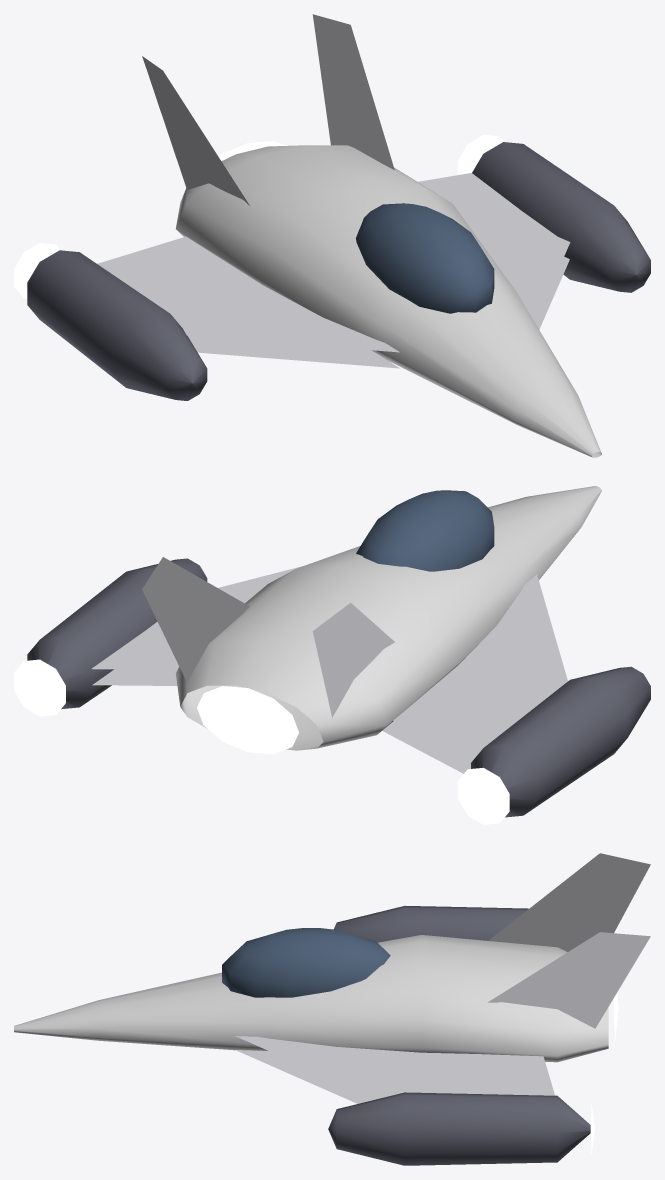
File: skimmer.glb
The picture shows the model from 3 angles, top to bottom: view 1: azimuth 30°, elevation 25°; view 2: azimuth 150°, elevation 25°; view 3: azimuth 270°, elevation 25°; orthographic projection. The views are drawn at different scales.
Visible parts, largest first — view 1: skimmer; view 2: skimmer; view 3: skimmer.
Part boxes in pixels (x1=…): skimmer: x1=14, y1=14, x2=650, y2=457; skimmer: x1=14, y1=486, x2=650, y2=824; skimmer: x1=14, y1=853, x2=650, y2=1165.
Bounding box in the file's own units: 3.02 × 1.15 × 3.75.
